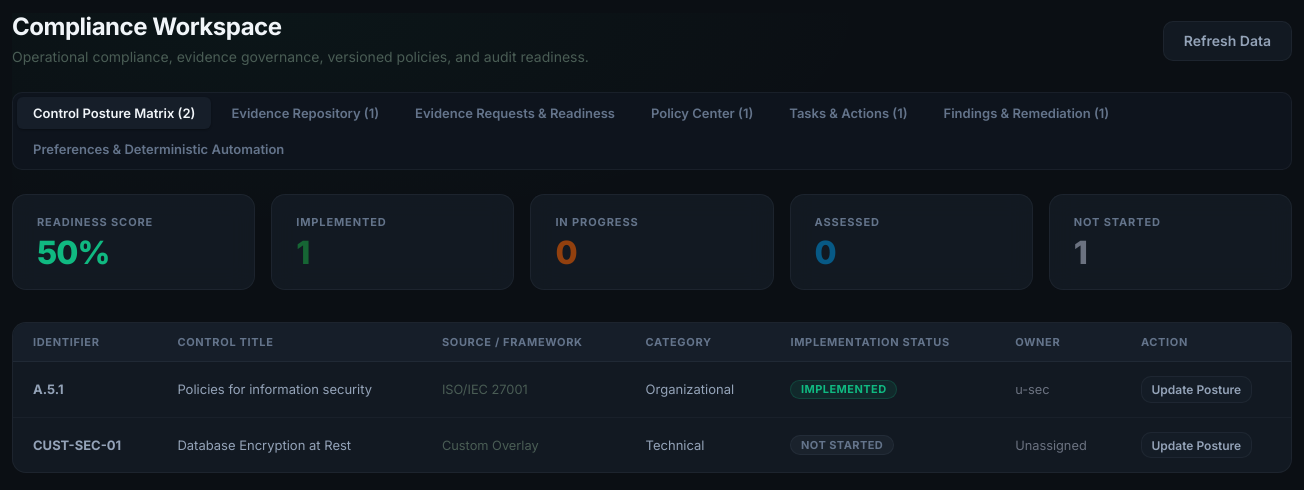
it: ComplianceWorkspace › switches to Evidence Repository and displays evidence items
Click the tab "Evidence Repository (1)" at (305, 113), box [215,97,395,129]
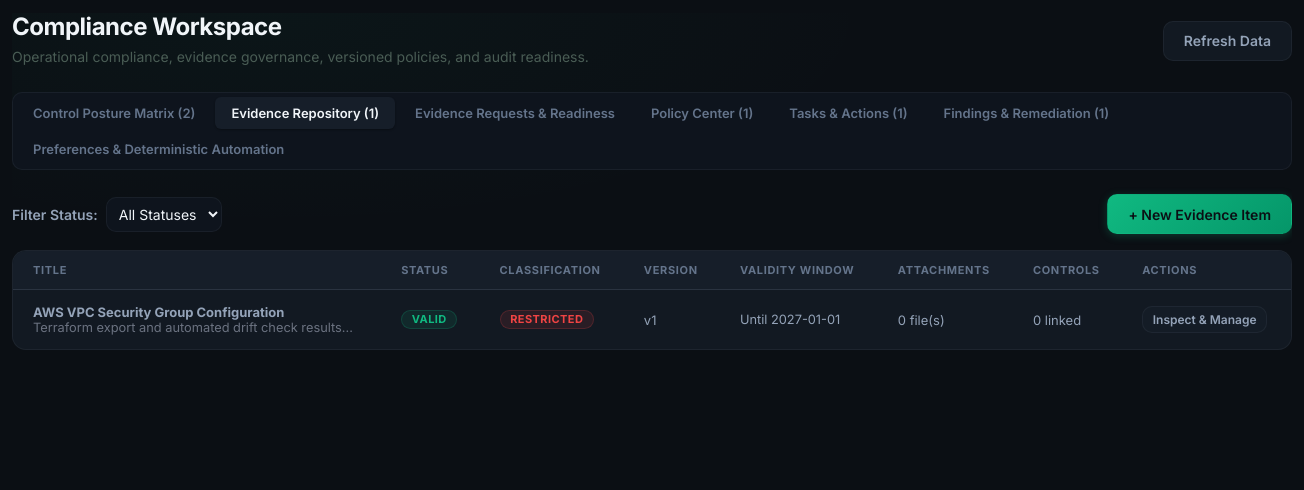
Now the text "AWS VPC Security Group Configuration" is shown, box [33,304,284,320]
Now the text "Restricted" is shown, box [500,310,594,329]
Now the text "valid" is shown, box [401,310,457,329]
